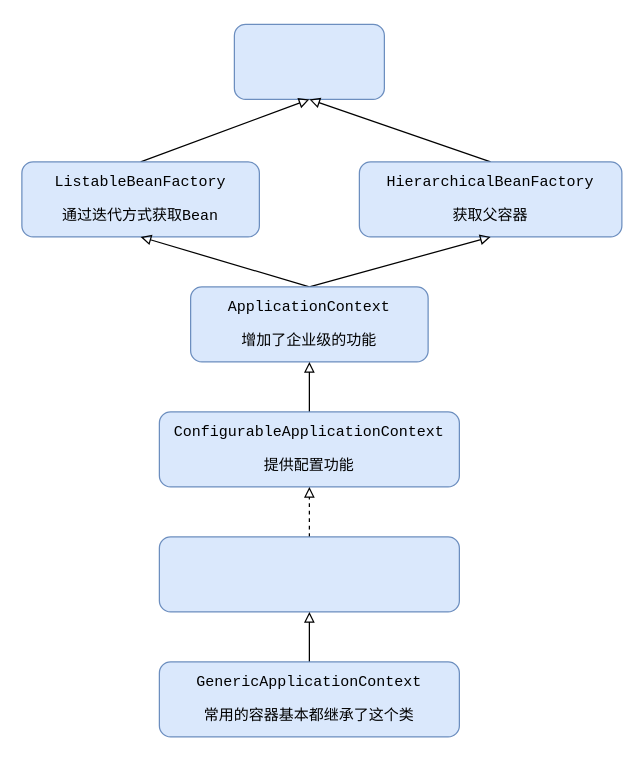
The diagram is 644 pixels wide and 761 high, and some of its shapes have lost their labels. Here are the shapes that lost their labels. From the top down, the box of each, then its label:
(233, 23, 384, 99): BeanFactory 获取单个Bean
(158, 536, 459, 612): AbstractApplicationContext 封装了容器启动的基本流程（很重要）
